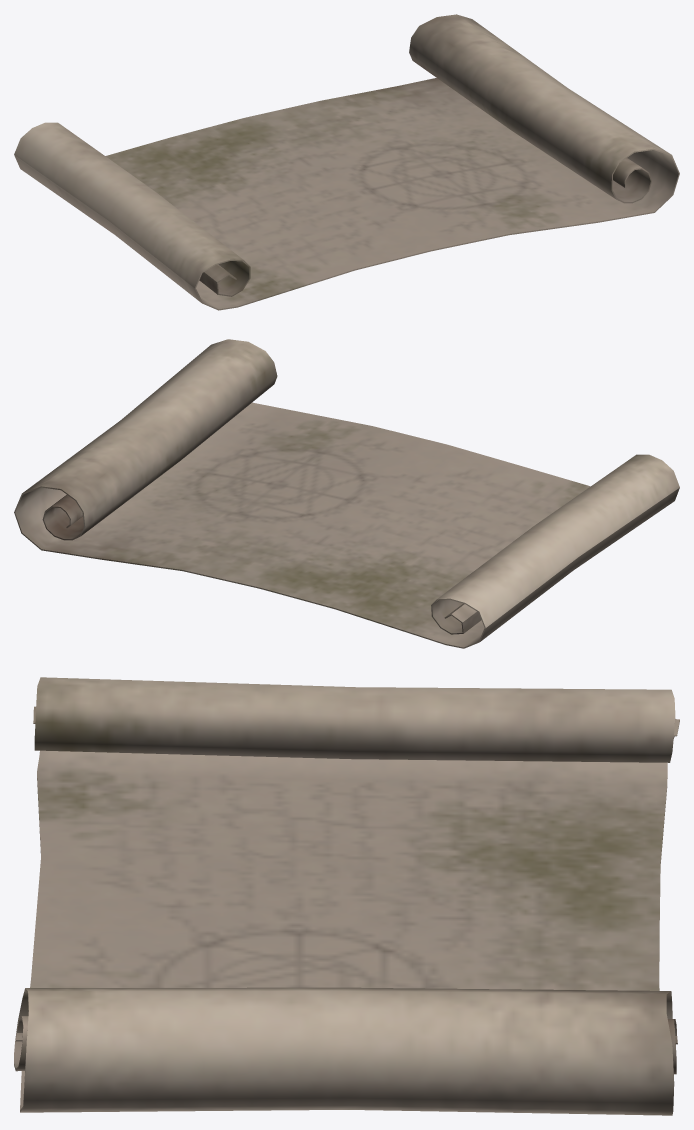
3 views of the same model, one above another, from view 1: azimuth 30°, elevation 25°; view 2: azimuth 150°, elevation 25°; view 3: azimuth 270°, elevation 25° (orthographic). The views are drawn at different scales.
Visible parts, largest first — view 1: submesh_0; view 2: submesh_0; view 3: submesh_0.
Boxes of the visible parts, x1,y1,x2,y2 form: submesh_0: [14, 14, 679, 310]; submesh_0: [14, 339, 679, 648]; submesh_0: [14, 677, 679, 1115].
Size of the model in its own units: 0.8047 by 0.1103 by 0.5822.
Materials: 1 (1 with a texture image).
